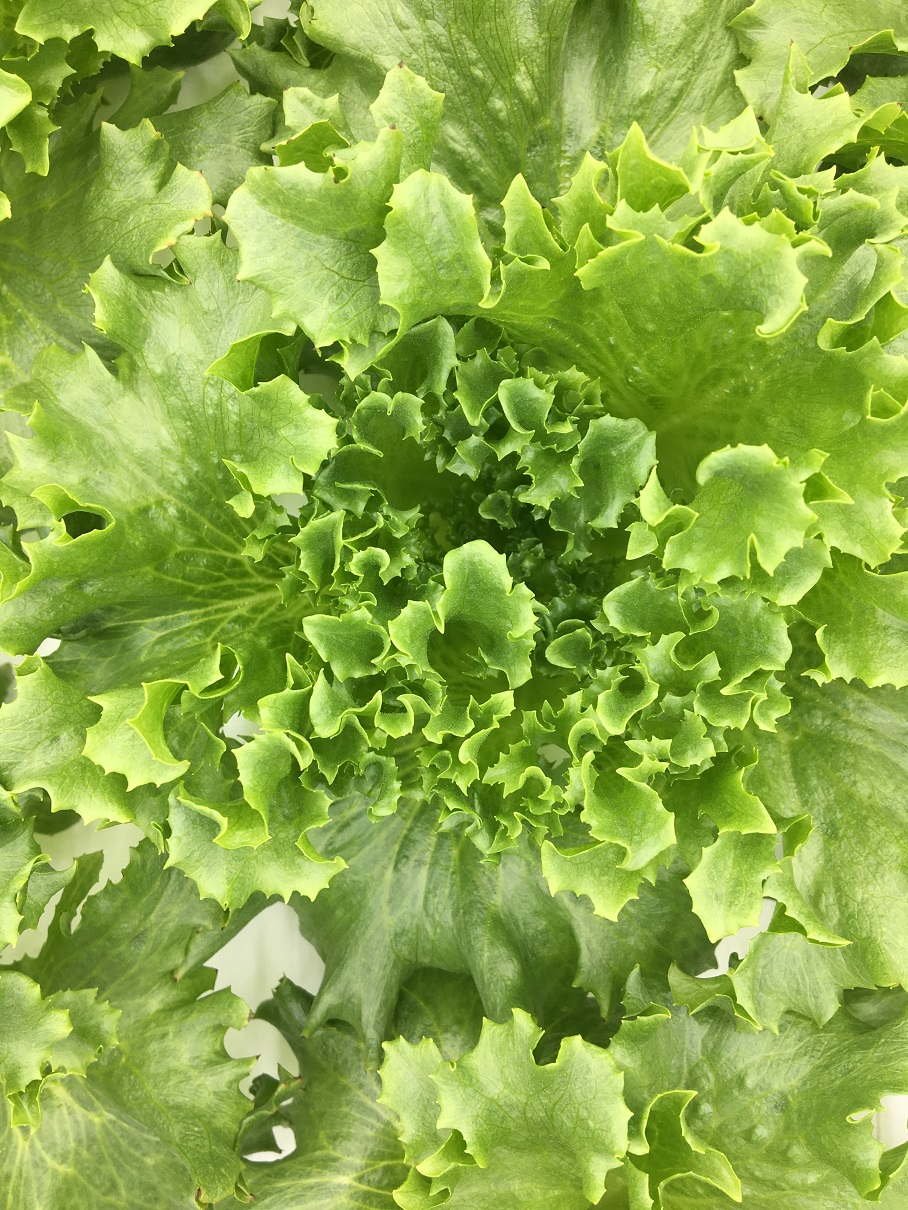tipburn: (161, 50, 205, 95), (230, 997, 267, 1035), (240, 1036, 277, 1072), (203, 906, 239, 943), (375, 110, 413, 145), (384, 50, 420, 85), (235, 1176, 271, 1210), (318, 167, 355, 200), (272, 68, 307, 102), (157, 963, 191, 997), (222, 263, 256, 297), (313, 137, 348, 169), (181, 916, 214, 949), (180, 203, 213, 235), (154, 229, 186, 261), (183, 1176, 213, 1210), (184, 156, 216, 187), (775, 27, 806, 57), (274, 126, 303, 155), (288, 1063, 317, 1091), (890, 88, 908, 121), (265, 1104, 292, 1126), (269, 1144, 294, 1163), (752, 103, 771, 128), (300, 13, 323, 32), (207, 965, 229, 984), (844, 42, 860, 59)
